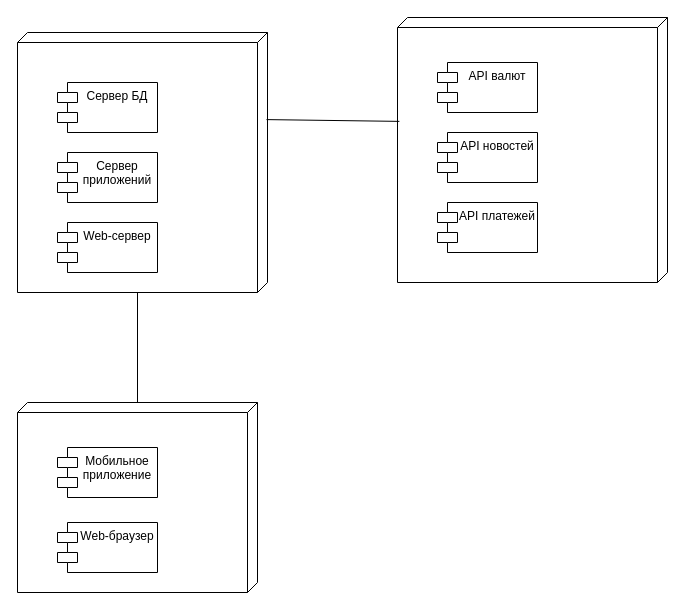
Some shapes in this 685 by 610 pixel diagram are drawn without their labels. Each missing label, with the box of its shape:
Внешние сервисы: (396, 16, 668, 282)
Клиент: (16, 402, 258, 592)
Серверная часть: (16, 32, 268, 292)
